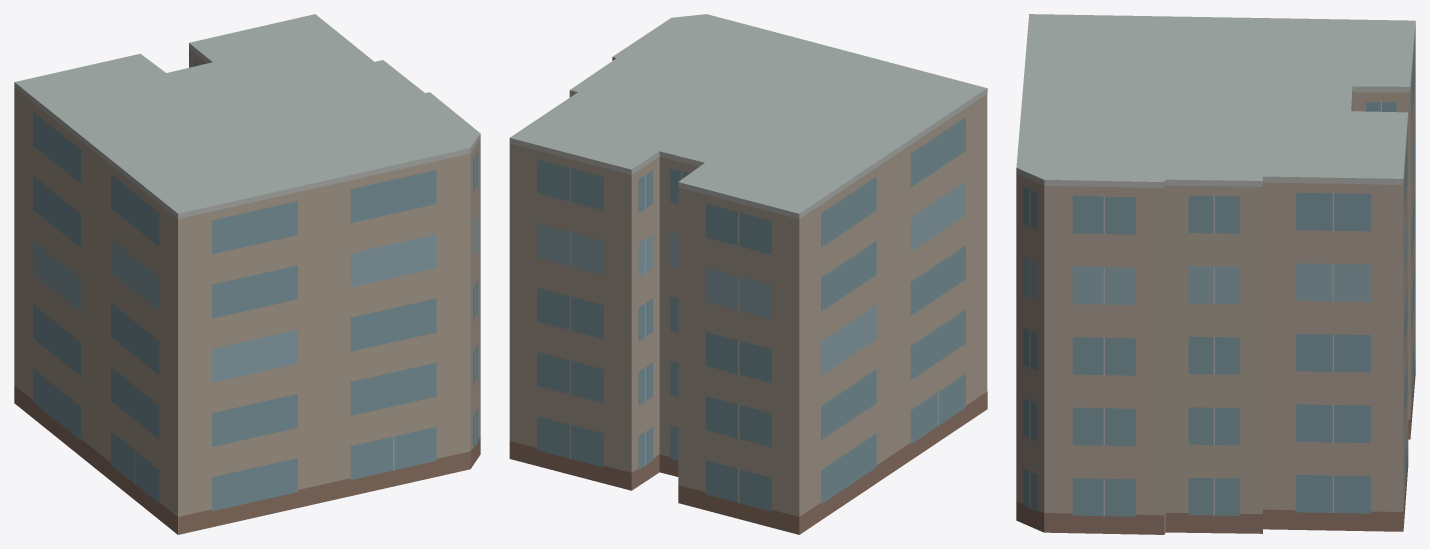
File: survey-upis-32825497.glb
The picture shows the model from 3 angles, left to right: view 1: azimuth 30°, elevation 25°; view 2: azimuth 150°, elevation 25°; view 3: azimuth 270°, elevation 25°; orthographic projection. The views are drawn at different scales.
Parts seen in each view (by area): view 1: survey-upis-32825497.tmp; view 2: survey-upis-32825497.tmp; view 3: survey-upis-32825497.tmp.
Boxes of the visible parts, bbox=[...] form: survey-upis-32825497.tmp: bbox=[14, 14, 480, 534]; survey-upis-32825497.tmp: bbox=[509, 14, 987, 534]; survey-upis-32825497.tmp: bbox=[1016, 14, 1415, 534].
Size of the model in its own units: 14.89 by 14.56 by 14.94.
